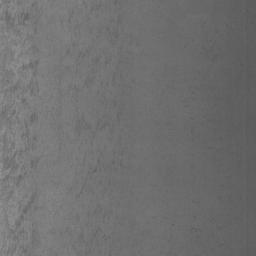Silk spot: (47, 1, 139, 256), (0, 0, 43, 256)
